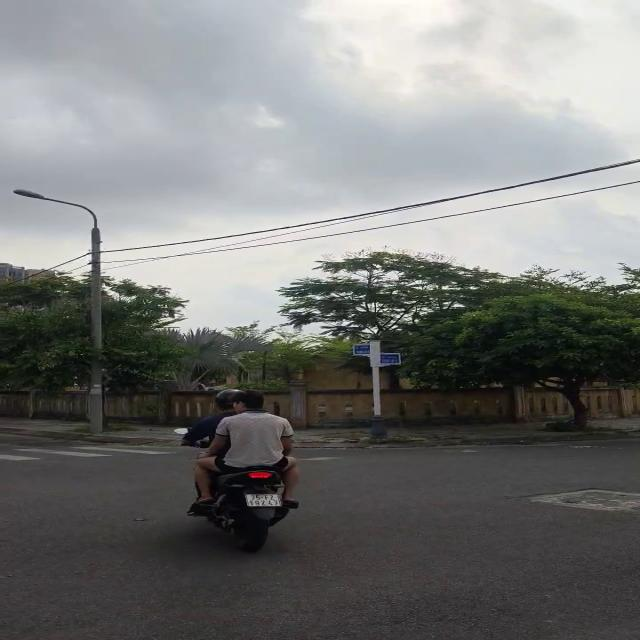with_helmet: (215, 389, 240, 409)
without_helmet: (237, 388, 274, 415)
